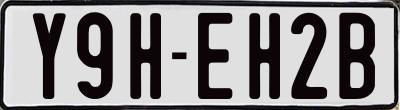2: (289, 10, 330, 97)
9: (76, 10, 116, 98)
B: (336, 12, 373, 99)
E: (196, 12, 230, 98)
H: (128, 11, 161, 102), (246, 12, 278, 99)
Y: (32, 10, 68, 99)
